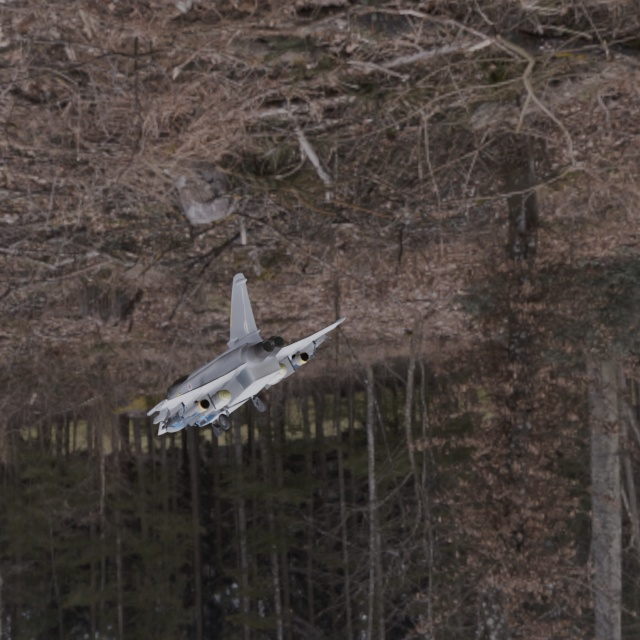eurofighter_typhoon_3d: (45, 233, 391, 506)
